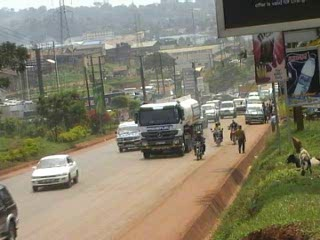Car: (31, 151, 81, 192), (0, 182, 25, 238), (215, 98, 239, 120), (200, 100, 219, 123), (197, 105, 209, 132)
Motorcycle: (191, 128, 209, 160), (209, 119, 225, 146), (228, 118, 242, 146)
